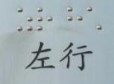Braille: (16, 7, 33, 32), (87, 6, 102, 31), (37, 7, 52, 31), (67, 7, 82, 31)
